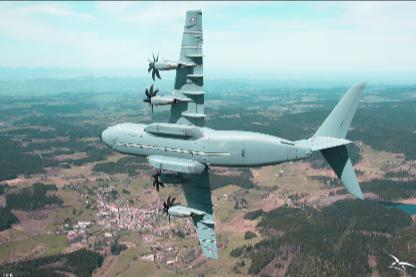A400M: (100, 8, 366, 259)
